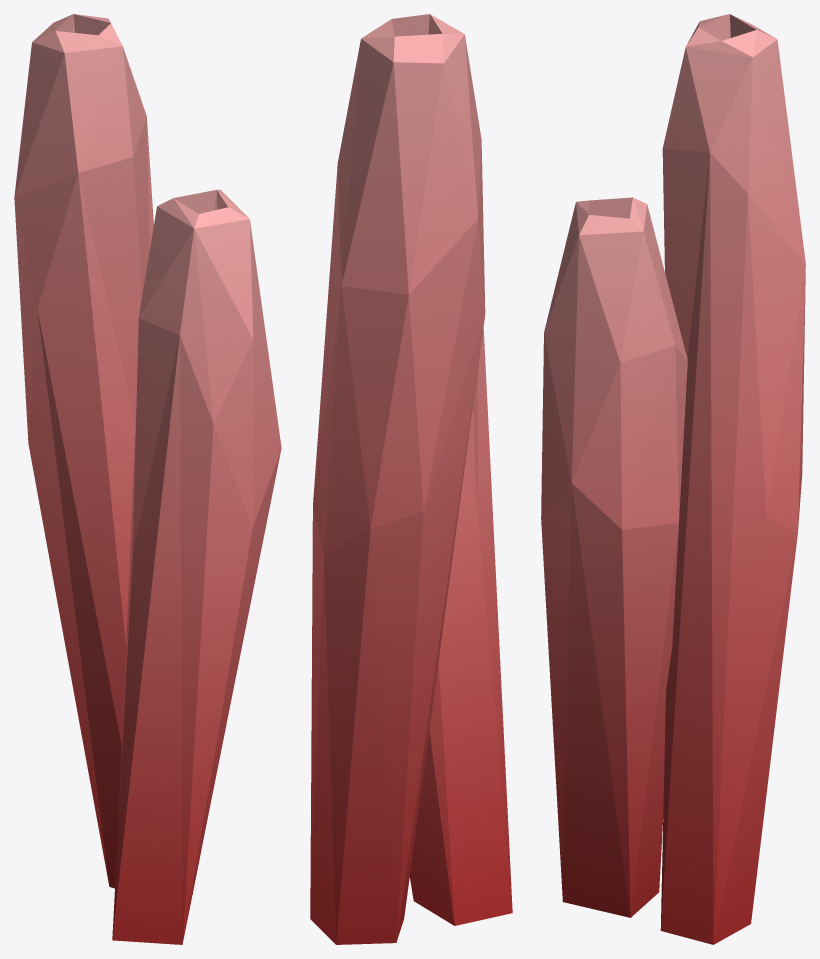
Rendered from SM_Spongia_2.fbx.
3 renders of one model, left to right at view 1: azimuth 30°, elevation 25°; view 2: azimuth 150°, elevation 25°; view 3: azimuth 270°, elevation 25°, orthographic. The views are drawn at different scales.
Parts seen in each view (by area): view 1: Spongia_2; view 2: Spongia_2; view 3: Spongia_2.
Part boxes in pixels (x1=…): Spongia_2: x1=14, y1=14, x2=281, y2=944; Spongia_2: x1=310, y1=14, x2=512, y2=944; Spongia_2: x1=541, y1=14, x2=805, y2=944.
Size of the model in its own units: 31.7 by 137 by 38.04.
